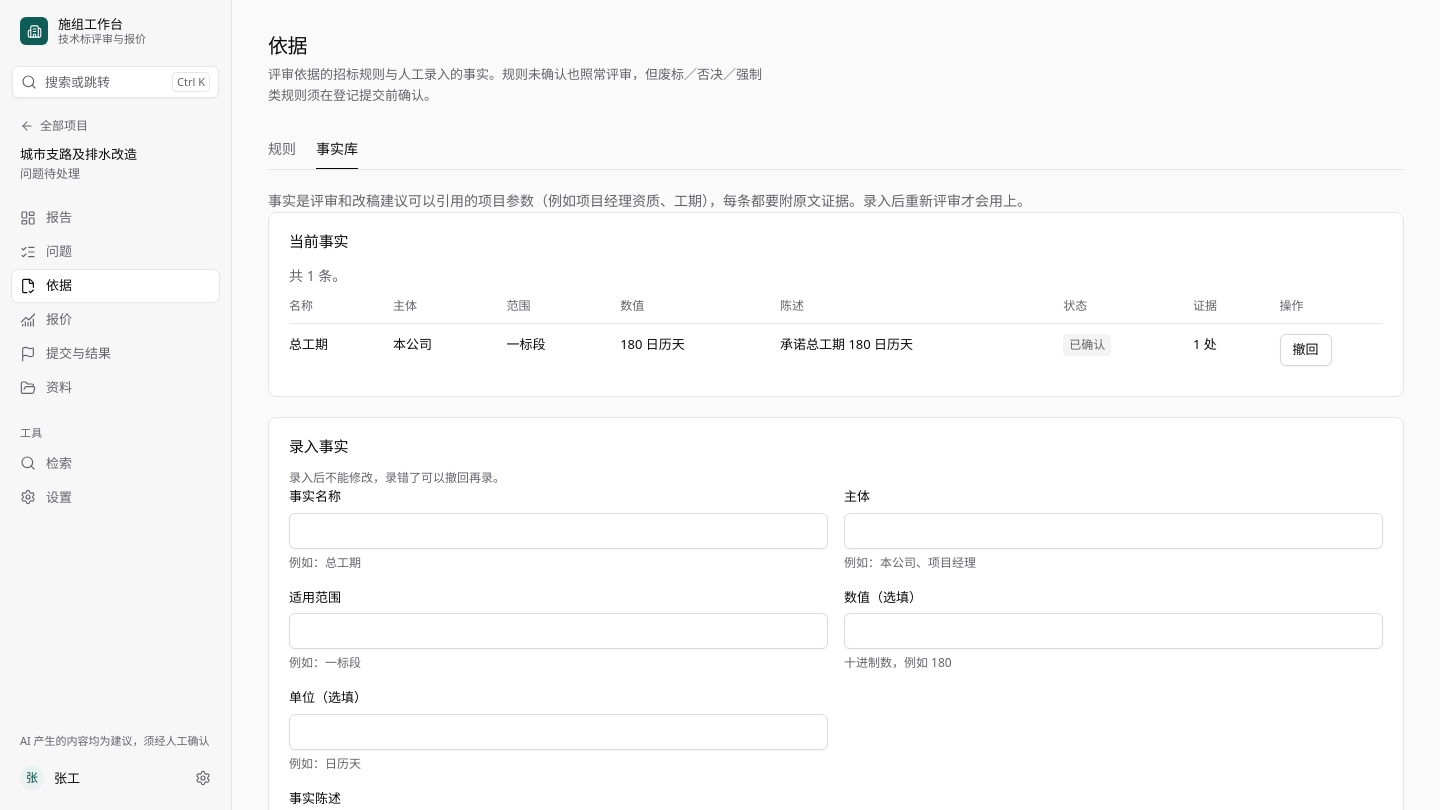
Scenario: 依据页：事实库 › 撤回 409 fact_not_current：显示友好提示并刷新列表
Click the button "撤回".
click(1306, 350)  # box x1=1280 y1=334 x2=1332 y2=366
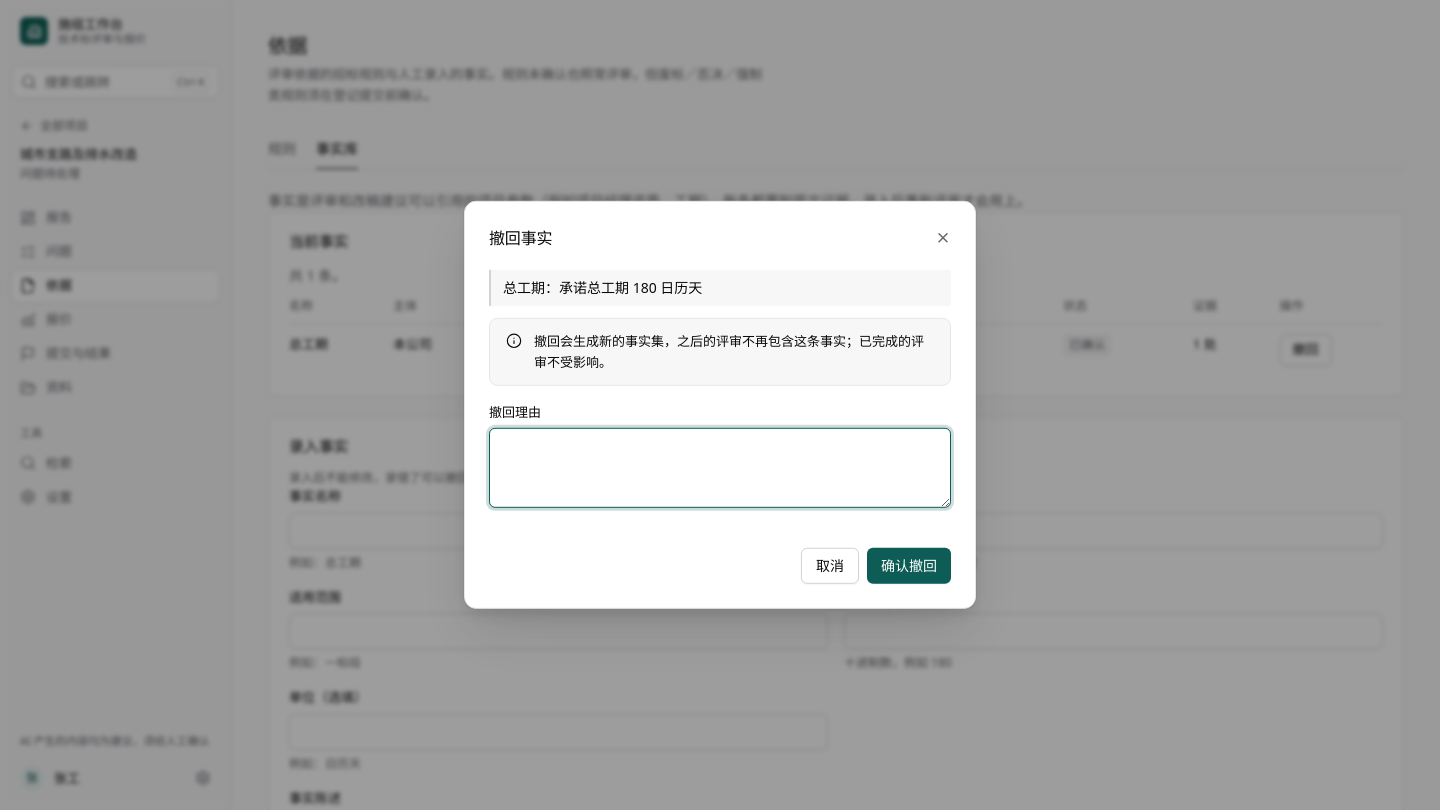
Type "录入有误" into the text box labelled "撤回理由".
click(720, 468); type("录入有误")  # box x1=489 y1=428 x2=951 y2=508
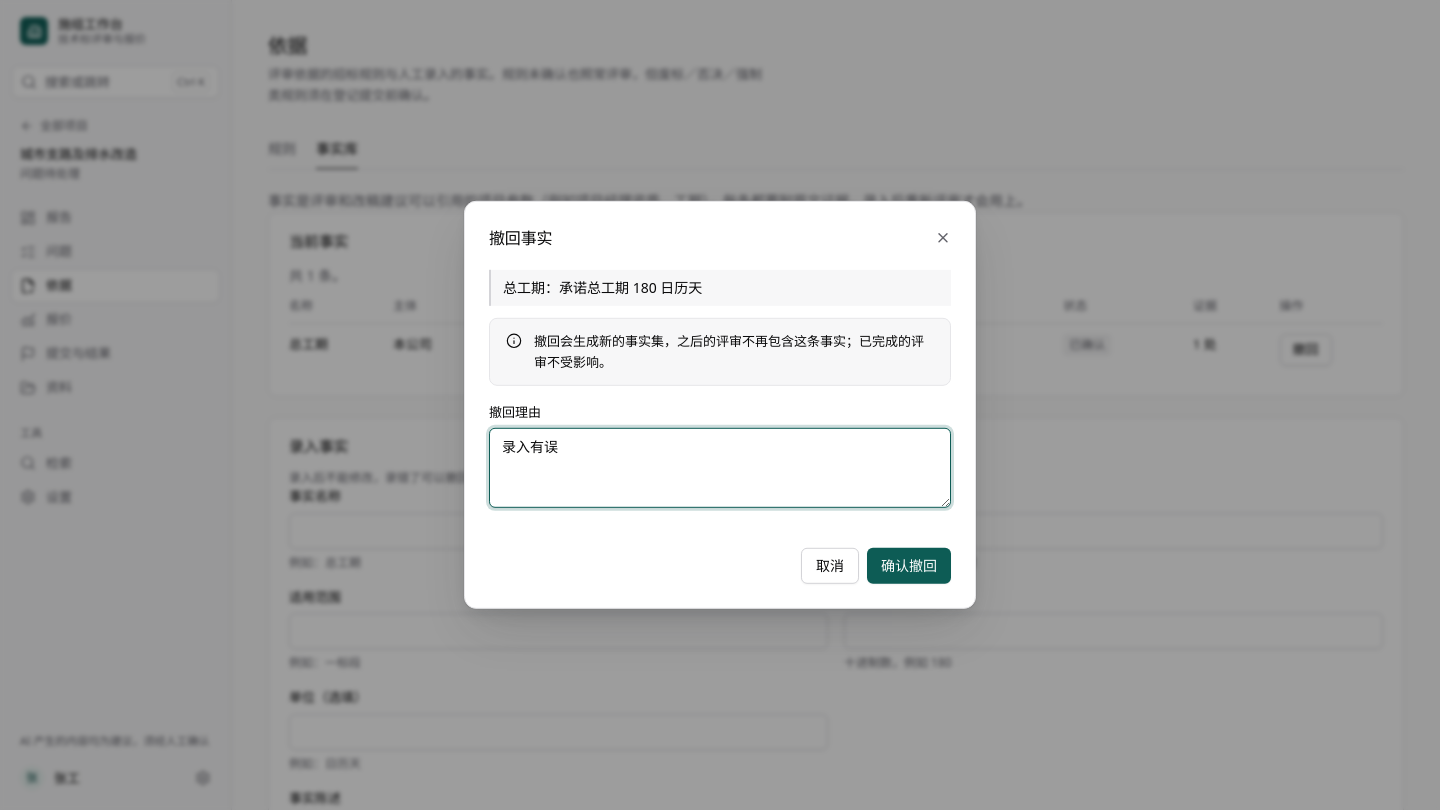
Click the button "确认撤回".
click(909, 566)  # box x1=867 y1=548 x2=951 y2=584
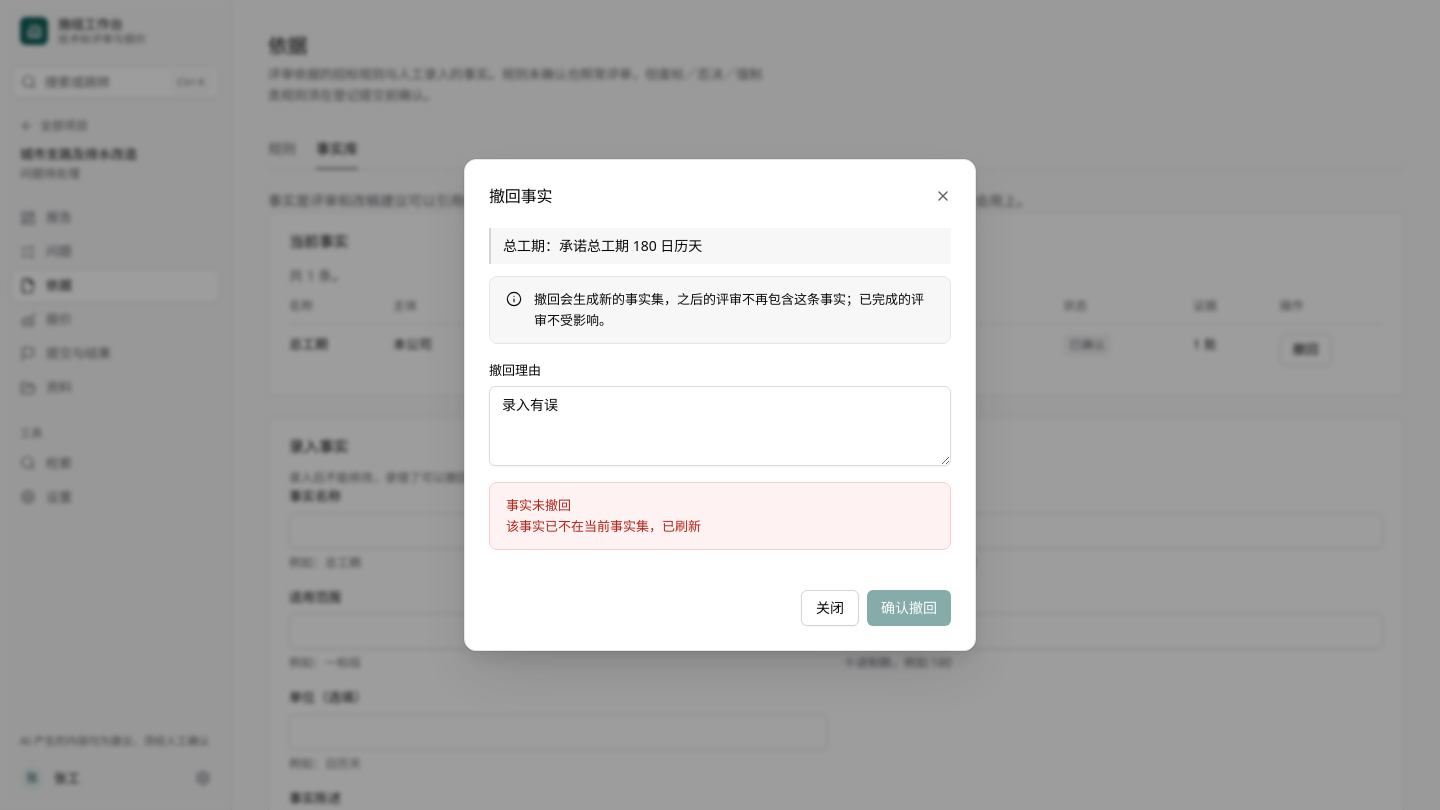
Expected: the text "该事实已不在当前事实集，已刷新" is shown, x1=506 y1=517 x2=701 y2=535
